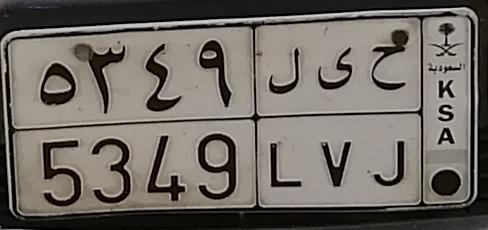3: (88, 44, 135, 205)
4: (143, 42, 187, 201)
5: (38, 61, 85, 208)
9: (197, 38, 238, 200)
J: (370, 44, 407, 187)
L: (267, 47, 303, 188)
V: (318, 46, 355, 188)
